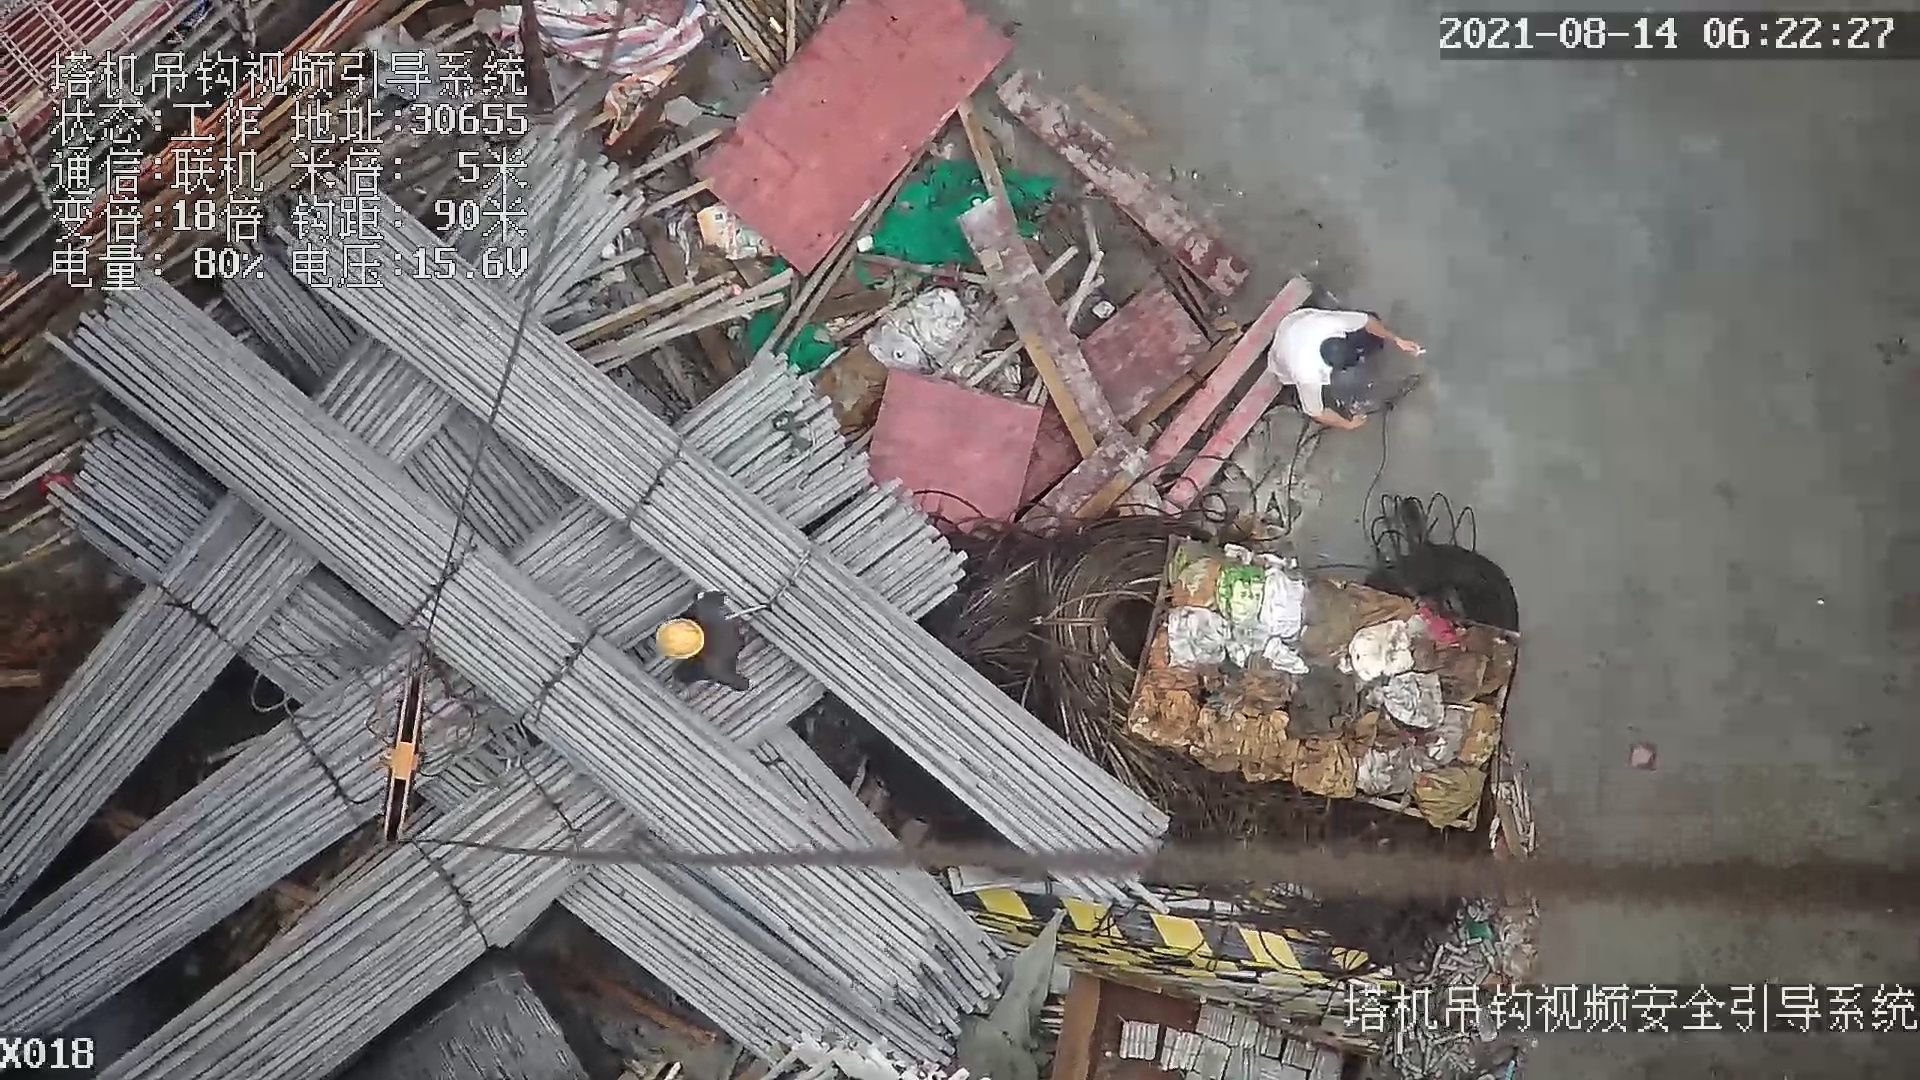board: (685, 4, 1012, 274)
helmet: (654, 619, 704, 657)
hook: (372, 672, 447, 849)
person: (1256, 303, 1426, 436), (649, 594, 764, 699)
